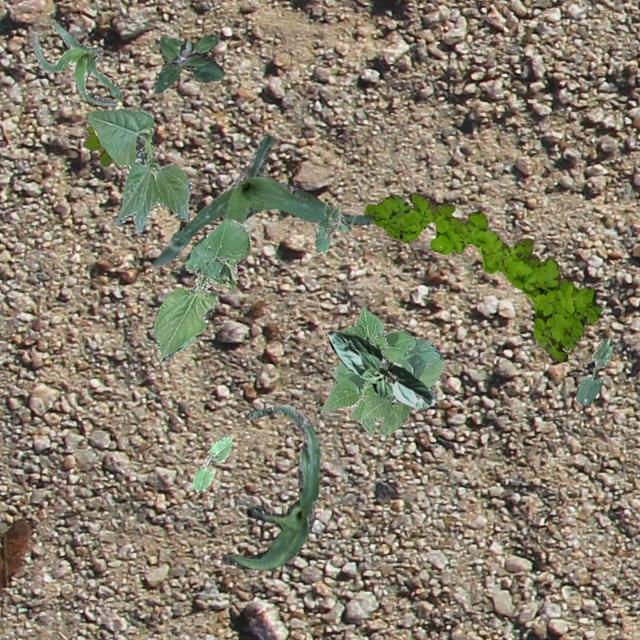crop: (152, 132, 372, 266), (220, 403, 320, 570), (320, 308, 442, 436), (153, 218, 250, 362), (86, 107, 192, 230), (326, 331, 436, 406), (30, 20, 124, 106), (574, 336, 612, 406), (192, 434, 230, 492), (314, 204, 350, 252)
weed: (364, 192, 600, 360), (152, 32, 224, 92), (82, 124, 112, 166)
